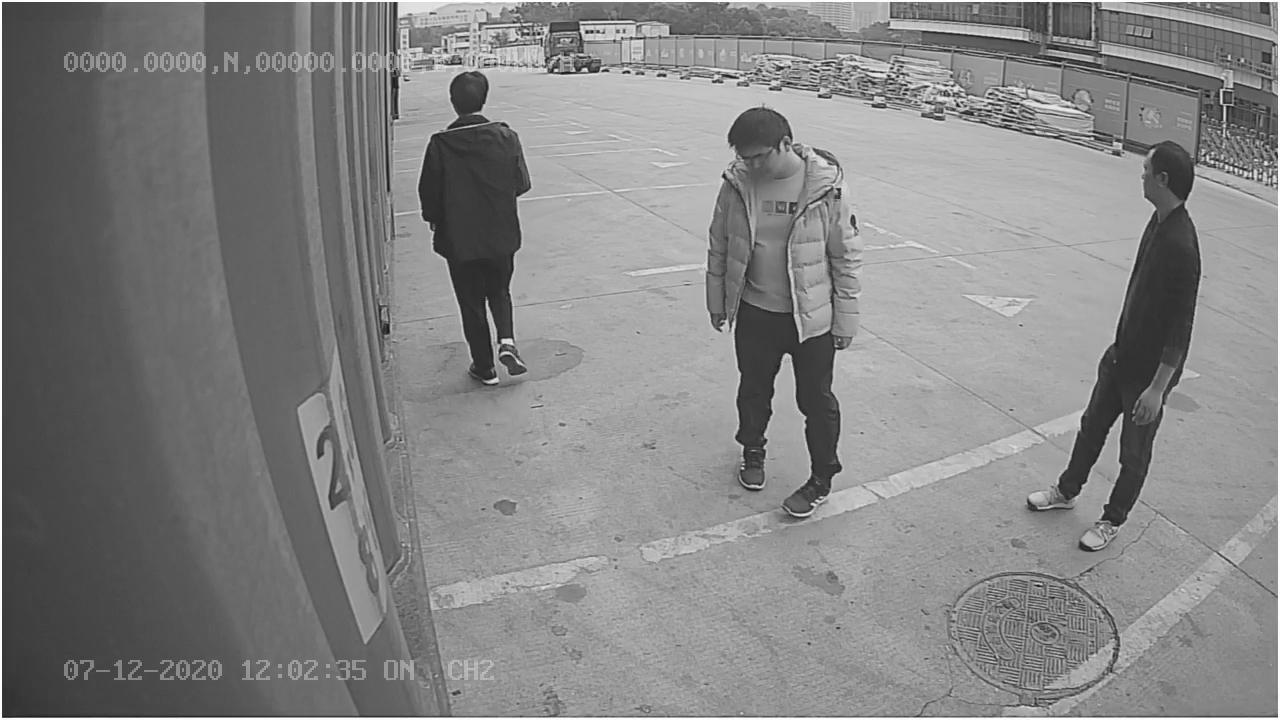person: (1026, 134, 1202, 556), (703, 106, 867, 517), (414, 67, 539, 387)
